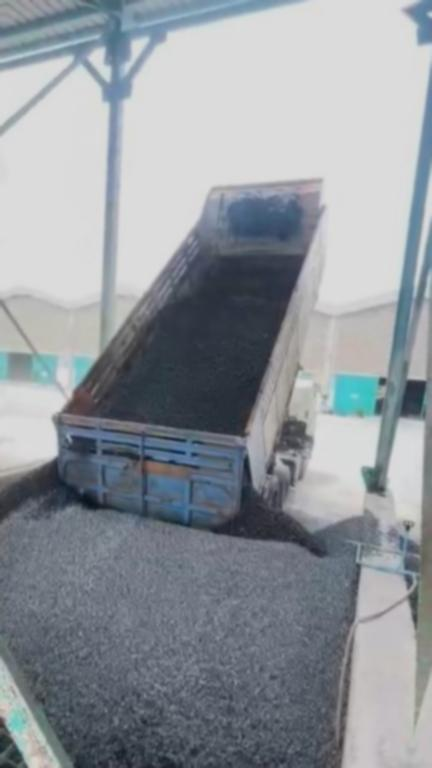gravel: (0, 464, 383, 768), (104, 258, 300, 433)
sand: (0, 428, 11, 488)
